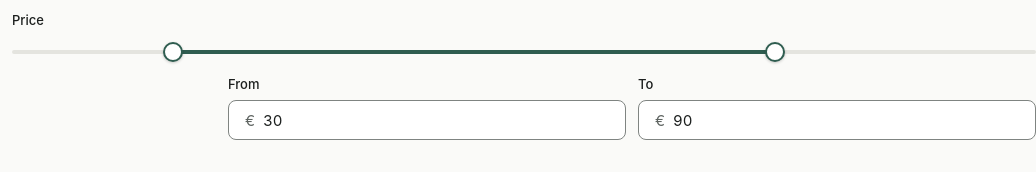
Test case: QPriceRange › ignores a field left empty
Clear the field labelled "From": (436, 120) [263, 101, 609, 139]
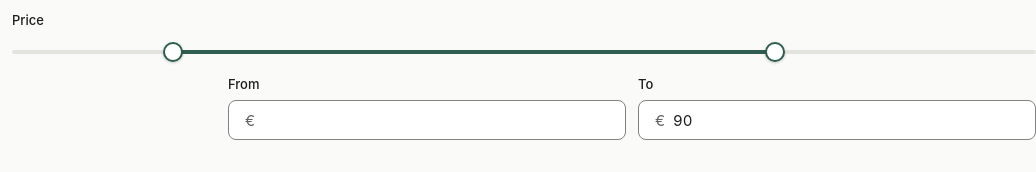
Leave the field labelled "From", box [263, 101, 609, 139]
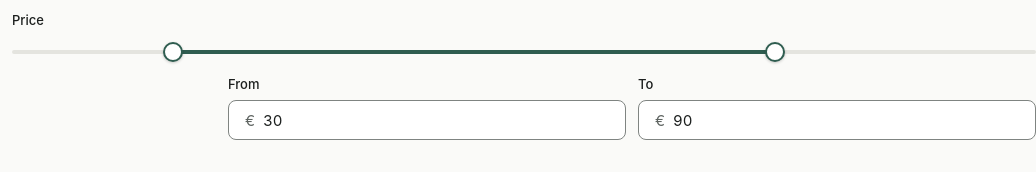
expect the field labelled "From" holds "30": met, box [263, 101, 609, 139]
